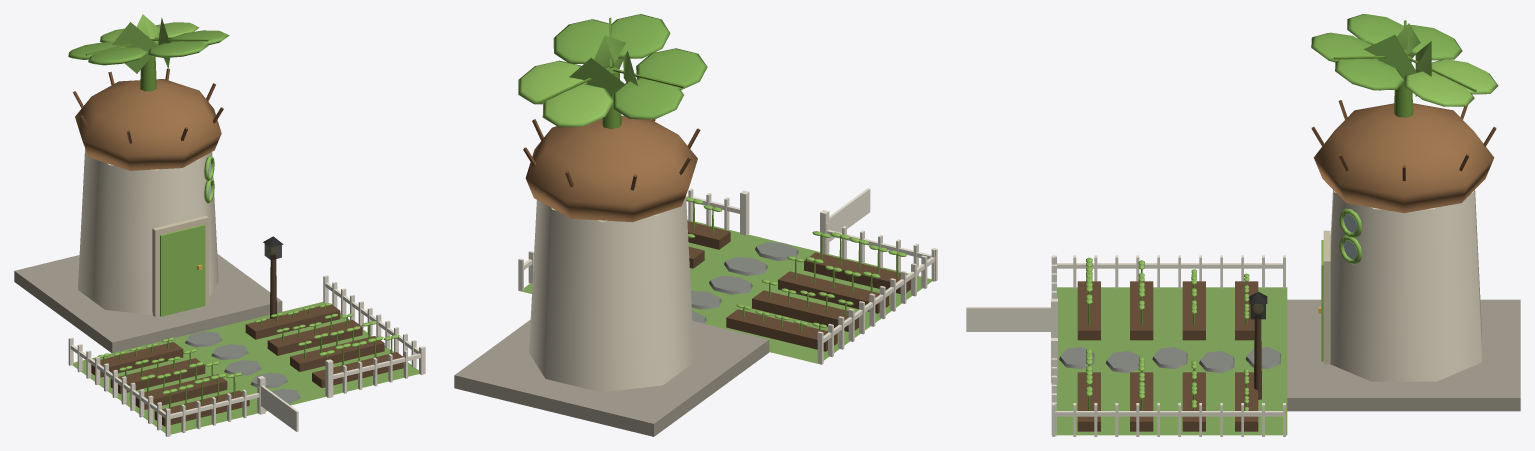
File: shed_spire.glb
3 renders of one model, left to right at view 1: azimuth 30°, elevation 25°; view 2: azimuth 150°, elevation 25°; view 3: azimuth 270°, elevation 25°, orthographic. The views are drawn at different scales.
Visible parts, largest first — view 1: Spire_Shed_m1, Spire_Shed_m2, Spire_Yard_m19, Spire_Shed_m0, Spire_Yard_m16, Spire_Yard_m17, Spire_Door_m9, Spire_Sway0_m5, Spire_Yard_m18, Spire_Yard_m21, Spire_Shed_m8, Spire_Yard_m20 (+5 smaller); view 2: Spire_Shed_m1, Spire_Shed_m0, Spire_Shed_m2, Spire_Sway0_m5, Spire_Yard_m19, Spire_Yard_m16, Spire_Yard_m17, Spire_Sway0_m7, Spire_Yard_m18, Spire_Yard_m21, Spire_Yard_m20, Spire_Shed_m3 (+1 smaller); view 3: Spire_Shed_m1, Spire_Yard_m16, Spire_Shed_m2, Spire_Shed_m0, Spire_Yard_m19, Spire_Yard_m17, Spire_Sway0_m5, Spire_Sway0_m7, Spire_Yard_m18, Spire_Yard_m21, Spire_Shed_m8, Spire_Shed_m12 (+3 smaller).
Boxes of the visible parts, x1,y1,x2,y2 form: Spire_Shed_m1: (78,148,218,315); Spire_Shed_m2: (75,79,221,170); Spire_Yard_m19: (91,304,403,426); Spire_Shed_m0: (14,254,282,353); Spire_Yard_m16: (72,302,419,434); Spire_Yard_m17: (68,275,425,436); Spire_Door_m9: (160,224,205,316); Spire_Sway0_m5: (68,17,229,73); Spire_Yard_m18: (185,331,300,403); Spire_Yard_m21: (97,303,399,394); Spire_Shed_m8: (152,215,208,317); Spire_Yard_m20: (103,306,392,408); Spire_Shed_m1: (529,196,694,392); Spire_Shed_m0: (454,319,769,436); Spire_Shed_m2: (525,115,697,222); Spire_Sway0_m5: (553,14,707,119); Spire_Yard_m19: (687,221,910,351); Spire_Yard_m16: (520,219,932,363); Spire_Yard_m17: (518,188,937,364); Spire_Sway0_m7: (518,58,624,127); Spire_Yard_m18: (691,242,798,323); Spire_Yard_m21: (686,197,906,327); Spire_Yard_m20: (693,202,898,331); Spire_Shed_m3: (523,119,700,190); Spire_Shed_m1: (1330,190,1481,381); Spire_Yard_m16: (1055,287,1287,435); Spire_Shed_m2: (1313,103,1494,212); Spire_Shed_m0: (1287,299,1520,411); Spire_Yard_m19: (1077,281,1258,431); Spire_Yard_m17: (966,255,1285,436); Spire_Sway0_m5: (1311,14,1462,90); Spire_Sway0_m7: (1404,41,1498,106); Spire_Yard_m18: (1059,347,1280,373); Spire_Yard_m21: (1086,257,1249,410); Spire_Shed_m8: (1323,230,1330,364); Spire_Shed_m12: (1339,208,1362,264).
Bounding box in the file's own units: 6.09 × 6.31 × 9.51.
